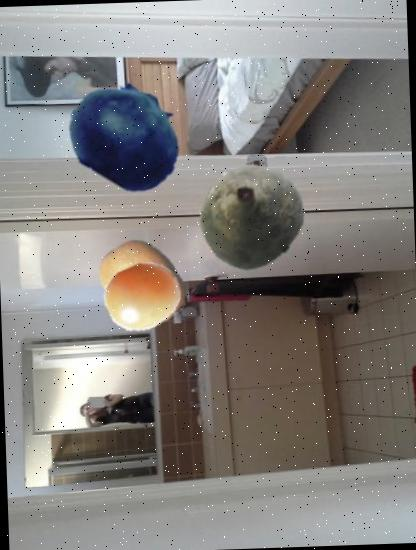Beetroot: (193, 154, 313, 274)
Cherry: (102, 256, 184, 338)
Huckleberry: (66, 74, 188, 196)
Kumquats: (96, 236, 190, 329)
